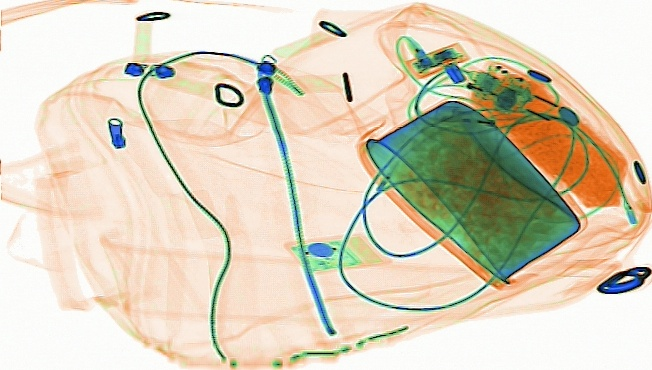lighter: (427, 59, 518, 111), (431, 102, 525, 130)
